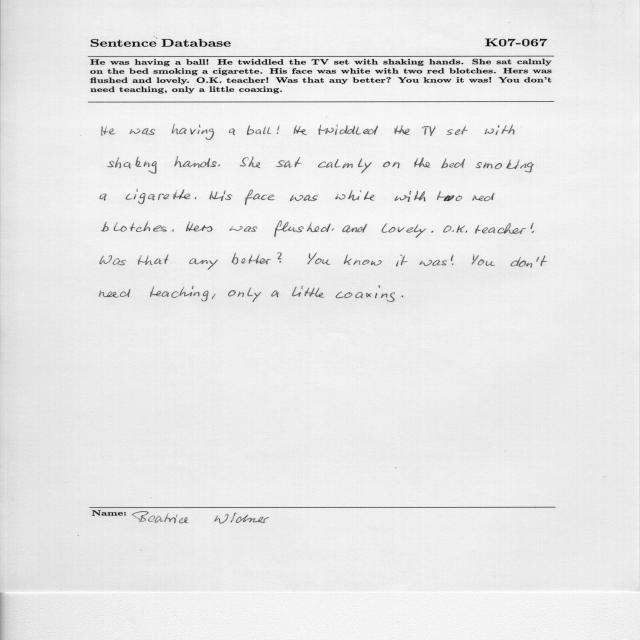word: (336, 285, 395, 302), (125, 189, 191, 204), (274, 221, 334, 237), (150, 286, 209, 302), (107, 157, 157, 174), (318, 158, 372, 173), (101, 221, 167, 232), (476, 160, 534, 172), (172, 124, 214, 140), (318, 124, 378, 135), (382, 223, 426, 238), (476, 223, 527, 234), (245, 189, 275, 205), (174, 157, 217, 168), (232, 253, 271, 265), (511, 255, 547, 268), (228, 288, 261, 302), (344, 254, 381, 266), (292, 286, 325, 298), (335, 190, 374, 200), (189, 258, 218, 270), (395, 191, 426, 202), (485, 124, 515, 135), (138, 254, 168, 265), (99, 289, 131, 298), (276, 157, 302, 168), (308, 252, 330, 265), (472, 254, 495, 266), (441, 158, 465, 169), (186, 222, 212, 232), (100, 255, 126, 265), (210, 190, 233, 201), (437, 191, 462, 201), (247, 125, 271, 135), (446, 125, 468, 135), (240, 157, 260, 168), (342, 224, 367, 232), (444, 225, 468, 233), (130, 128, 156, 135), (415, 157, 431, 168), (473, 193, 495, 201), (290, 195, 318, 201), (230, 226, 258, 232), (419, 260, 447, 266), (394, 125, 410, 135), (101, 126, 116, 136), (396, 255, 407, 267), (294, 125, 307, 135), (422, 126, 435, 136), (383, 162, 400, 169), (271, 291, 279, 298), (277, 253, 282, 263), (100, 194, 107, 201), (229, 128, 235, 135), (530, 223, 534, 233), (451, 254, 454, 265), (277, 126, 280, 134), (212, 294, 215, 299), (172, 229, 174, 232), (218, 164, 220, 166), (195, 197, 197, 199), (431, 231, 433, 233), (402, 295, 404, 297)
